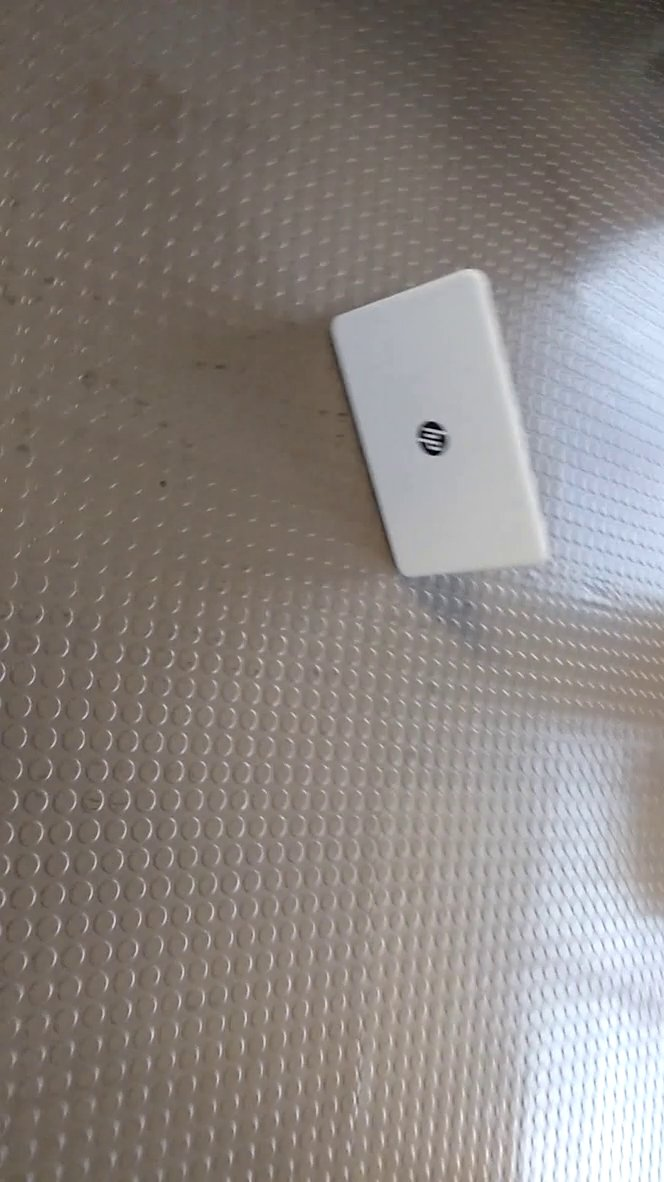laptop: (323, 259, 558, 589)
